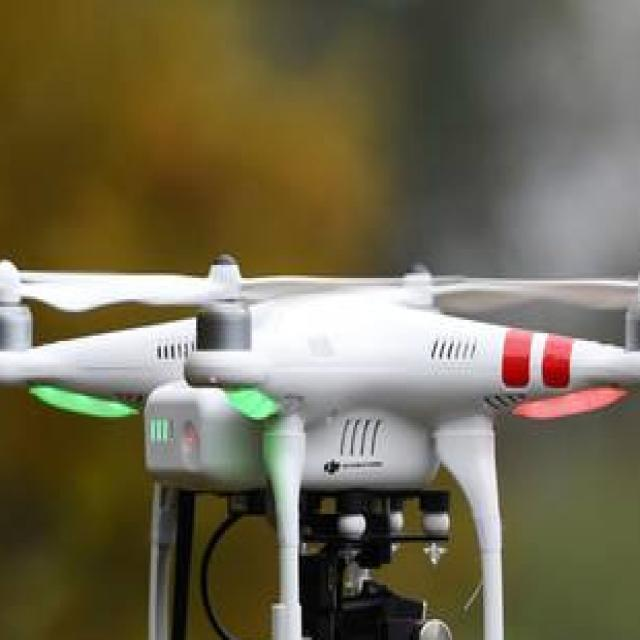drone: (0, 218, 640, 524)
